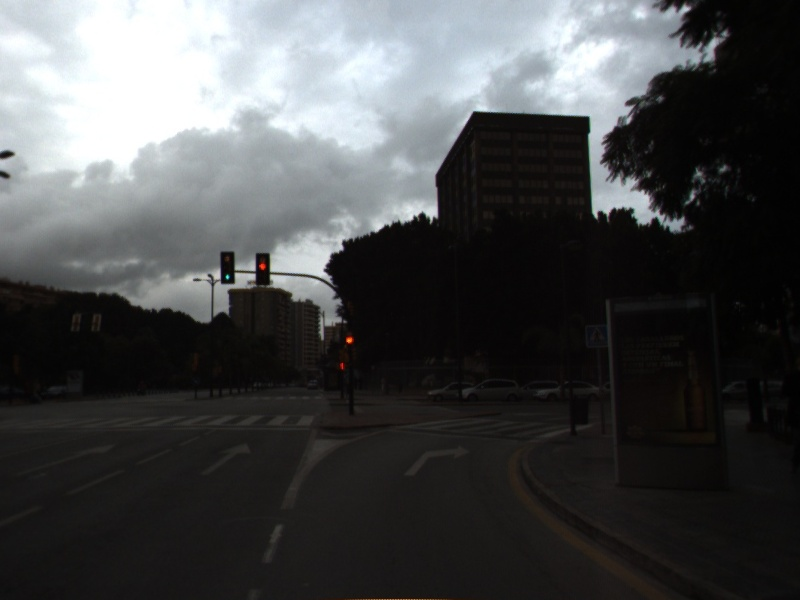RIGHT: (402, 443, 474, 479)
STRAIGHT: (13, 441, 119, 478), (198, 440, 253, 478)
